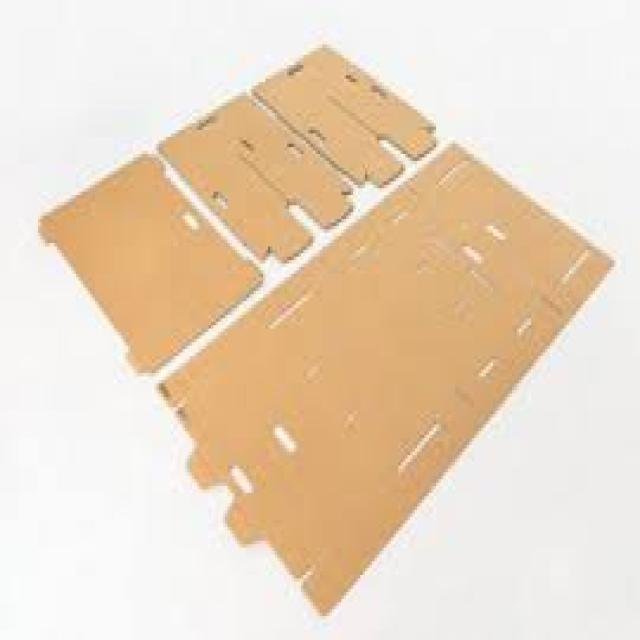cardboard: (157, 137, 612, 609), (36, 151, 261, 373), (156, 93, 351, 260), (251, 41, 434, 185)
